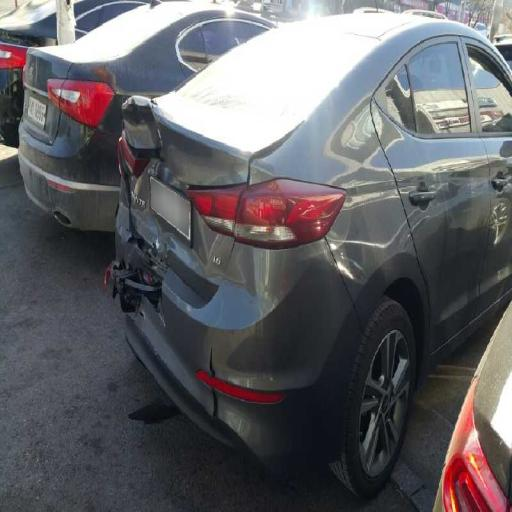broken: (93, 97, 191, 376)
